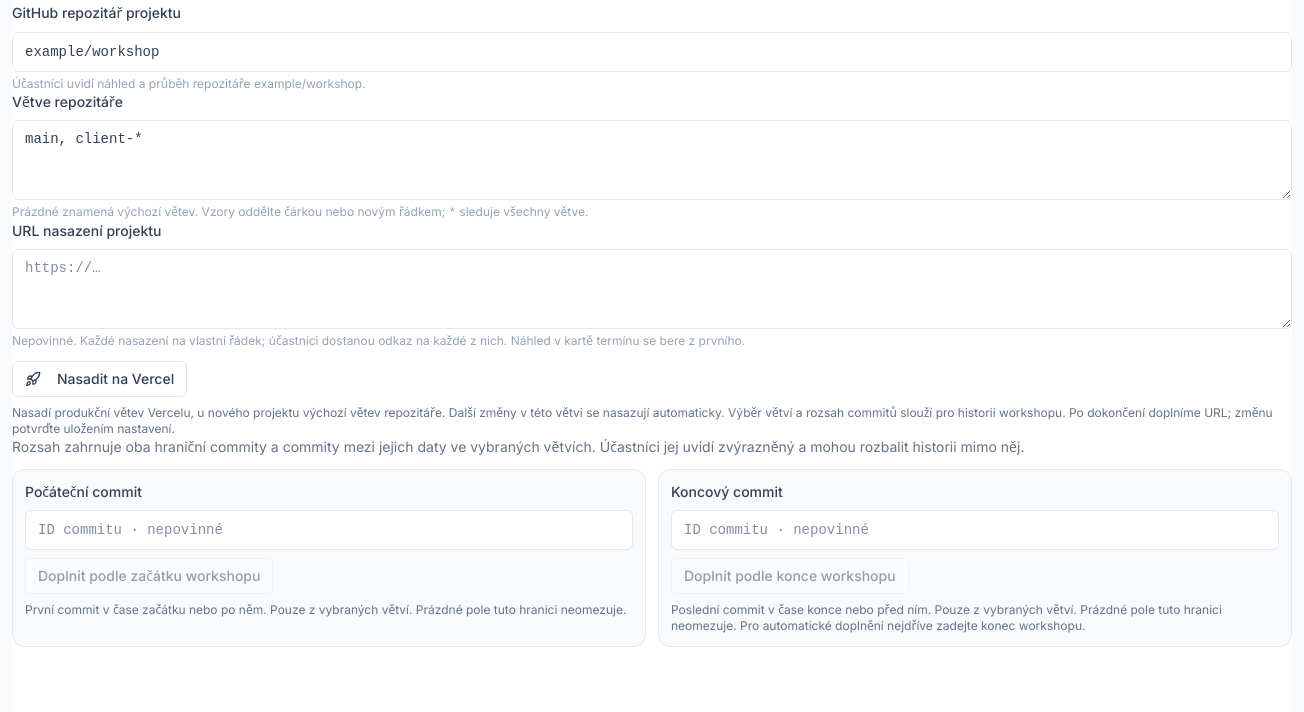
Vercel control in the existing workshop project fields › explains ERROR failures at the alias stage
What coordinates should you click on to do the following:
click the button "Nasadit na Vercel"
I would click on:
 (100, 379)
Its box is x1=12 y1=361 x2=187 y2=397.
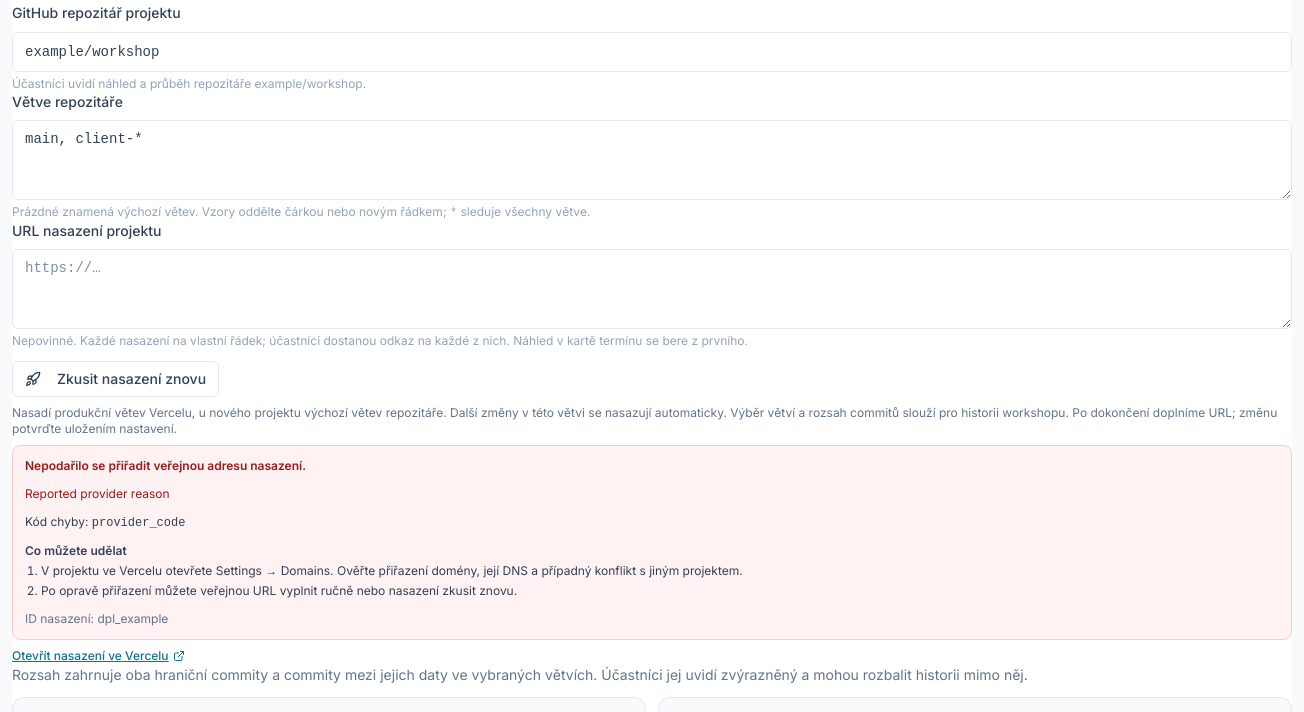
Now the message shows "Nepodařilo se přiřadit veřejnou adresu", box x1=25 y1=458 x2=306 y2=473
Now the message shows "Settings → Domains", box x1=41 y1=563 x2=743 y2=578
Now the message shows "Reported provider reason", box x1=25 y1=486 x2=170 y2=501
